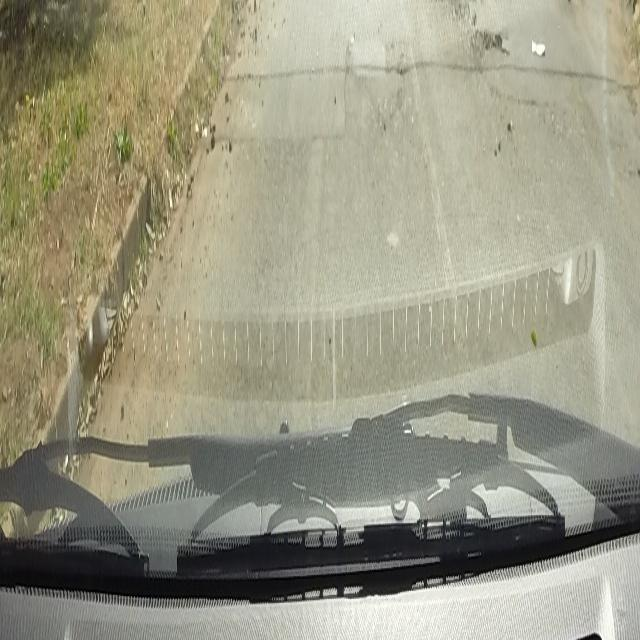pothole: (418, 0, 511, 58)
